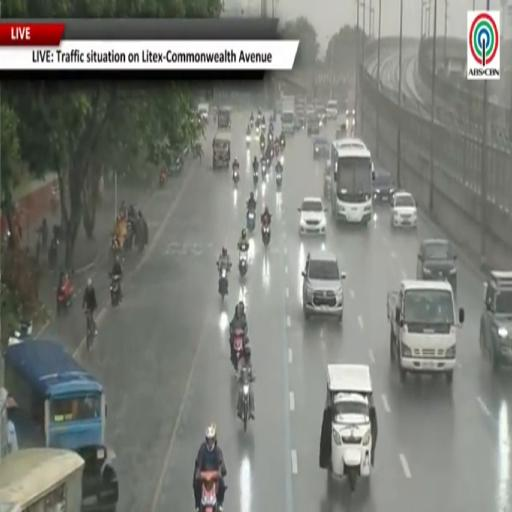bus: (5, 340, 118, 511), (0, 448, 84, 511), (328, 138, 373, 225)
car: (302, 250, 345, 323), (417, 239, 456, 295), (298, 198, 326, 235), (390, 191, 417, 227), (373, 170, 395, 202), (313, 137, 329, 158), (307, 117, 320, 135), (198, 103, 209, 123), (327, 100, 338, 119)
motorcycle: (238, 370, 254, 431), (200, 471, 220, 511), (8, 320, 32, 345), (57, 279, 73, 313), (233, 329, 244, 373), (48, 236, 59, 269), (110, 275, 121, 307), (218, 265, 228, 299), (239, 248, 248, 277), (246, 211, 255, 231), (262, 224, 270, 246), (159, 170, 167, 187), (261, 160, 267, 178), (276, 171, 282, 188), (233, 168, 239, 184), (274, 142, 280, 157), (246, 134, 251, 147), (280, 138, 285, 151), (254, 170, 258, 186), (260, 140, 264, 152), (250, 119, 254, 130), (256, 125, 260, 135)
truck: (387, 280, 464, 385), (480, 270, 511, 372), (281, 96, 295, 134)
